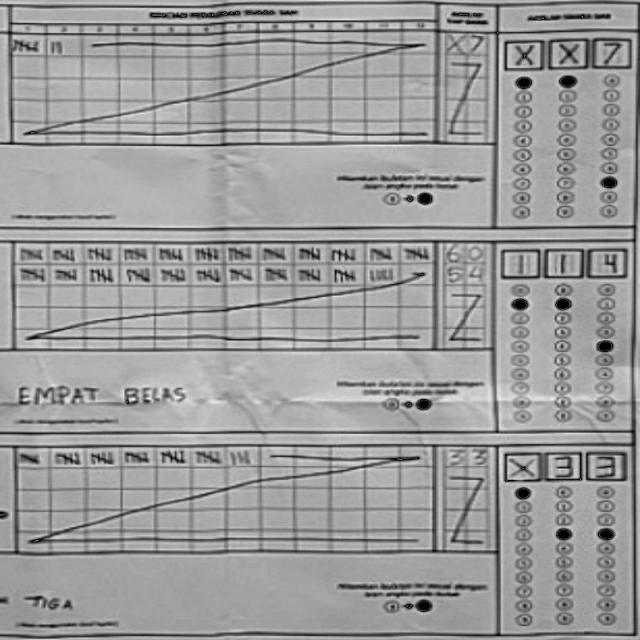Suara: (501, 33, 637, 75), (494, 240, 630, 282), (498, 446, 634, 488)
